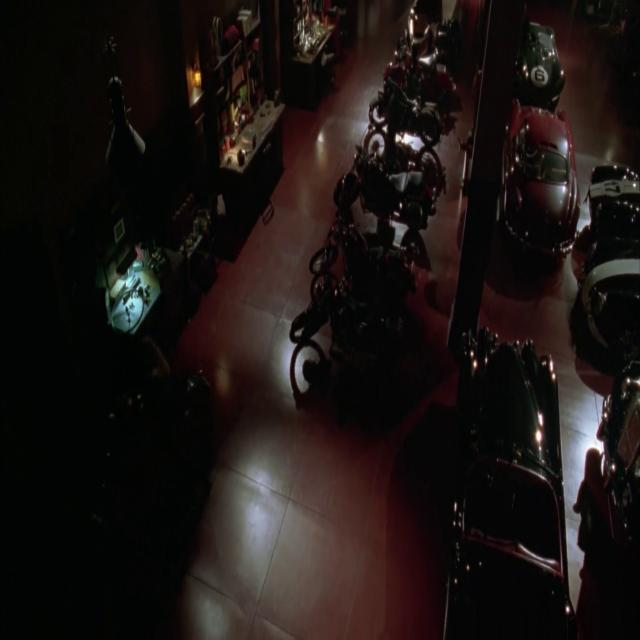Car: (457, 27, 640, 640)
Motorbike: (353, 16, 454, 280), (318, 197, 396, 446)
